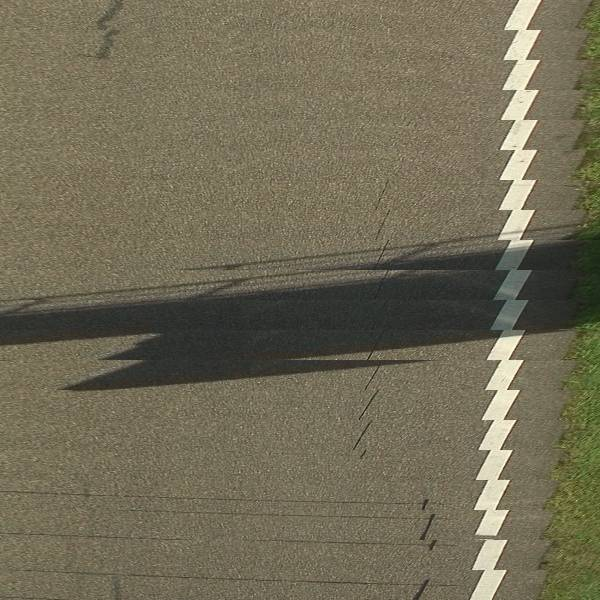road_damage: (98, 485, 450, 559)
